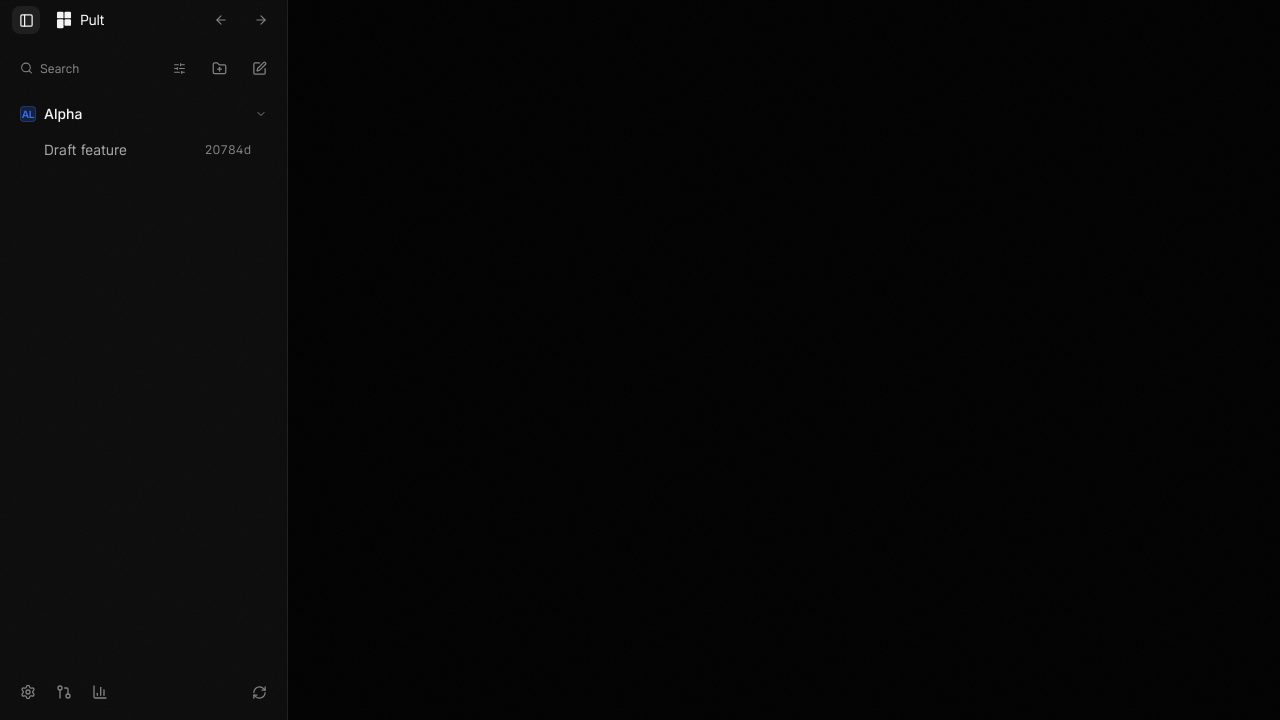
Scenario: Sidebar dirty worktree delete confirmation › shows workspace path and dirty entries, supports keep and force_remove, and cancels without deleting
This screenshot has width=1280, height=720.
Later steps or results of the test are not shown.
Step 1. Right-click the text "Draft feature" → coordinates (85, 150), box [44,140,127,160]
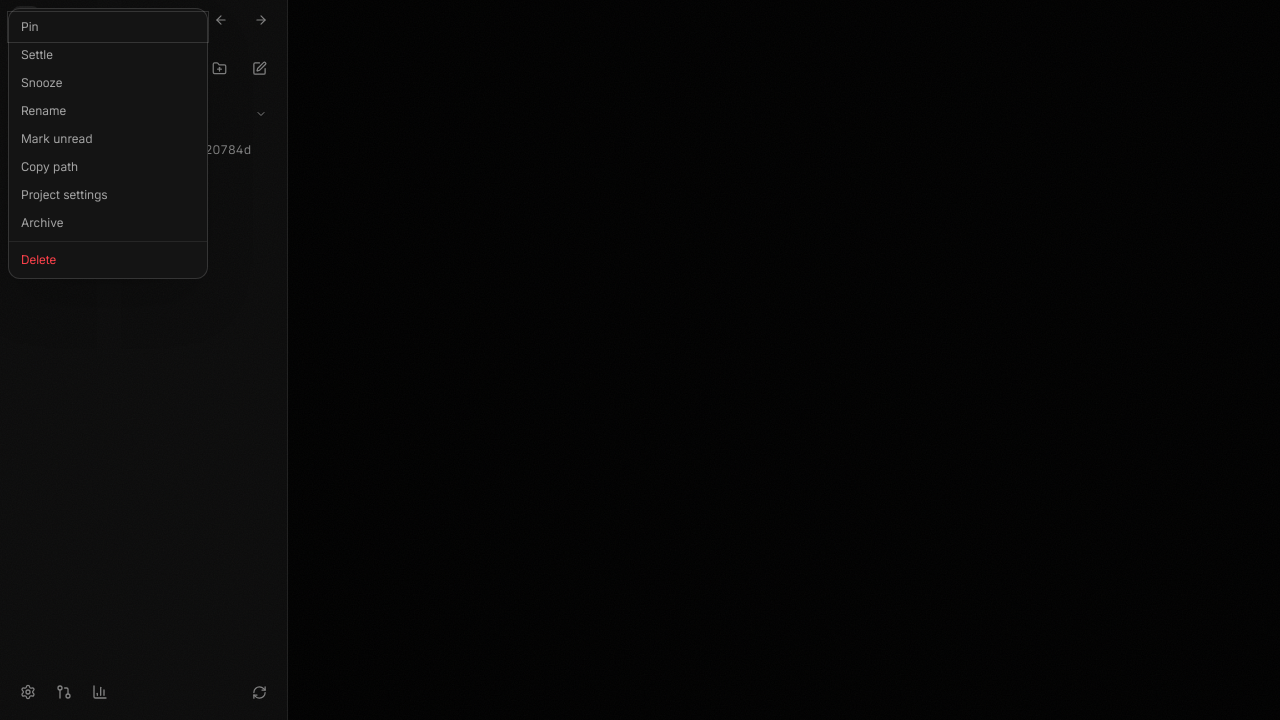
Step 2. Click the menu item "Delete" → coordinates (108, 260), box [9,246,207,274]
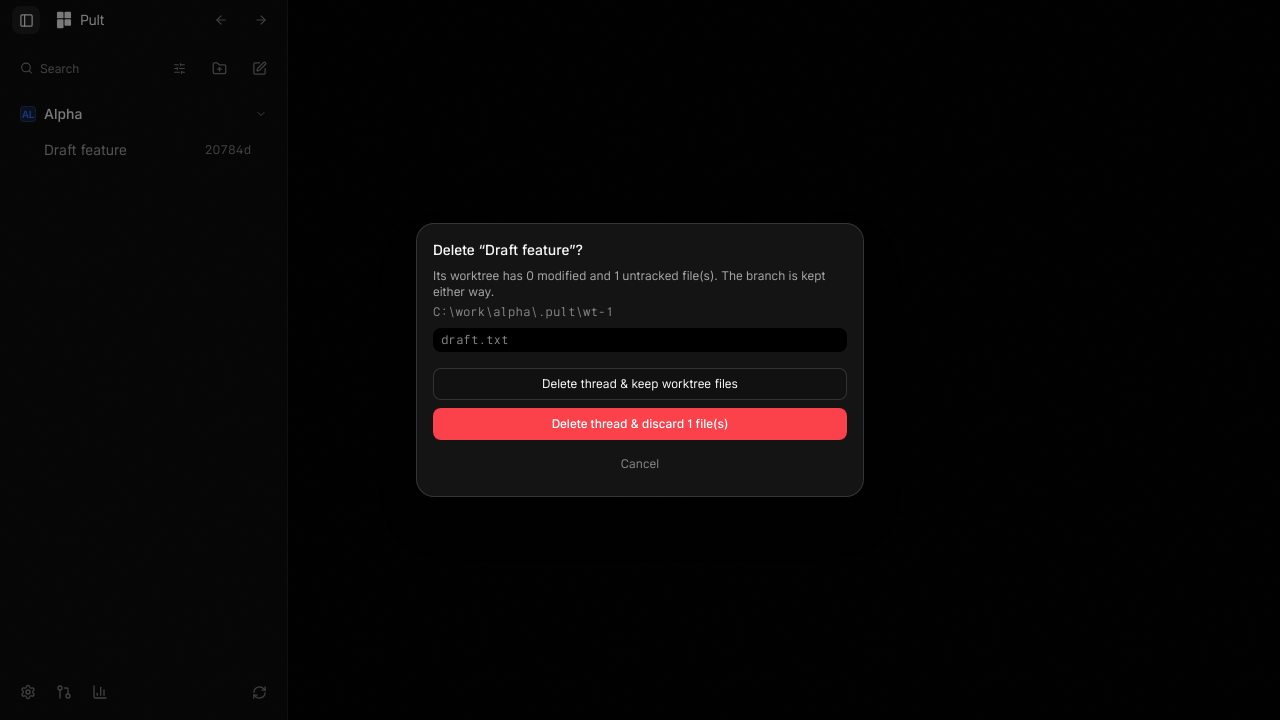
expect the text "C:\\work\\alpha\\.pult\\wt-1" is shown: met, box [433,304,613,319]
expect the list item "draft.txt" is shown: met, box [441,332,508,347]
Step 3. Click the button "Cancel" → coordinates (640, 464), box [433,448,847,480]
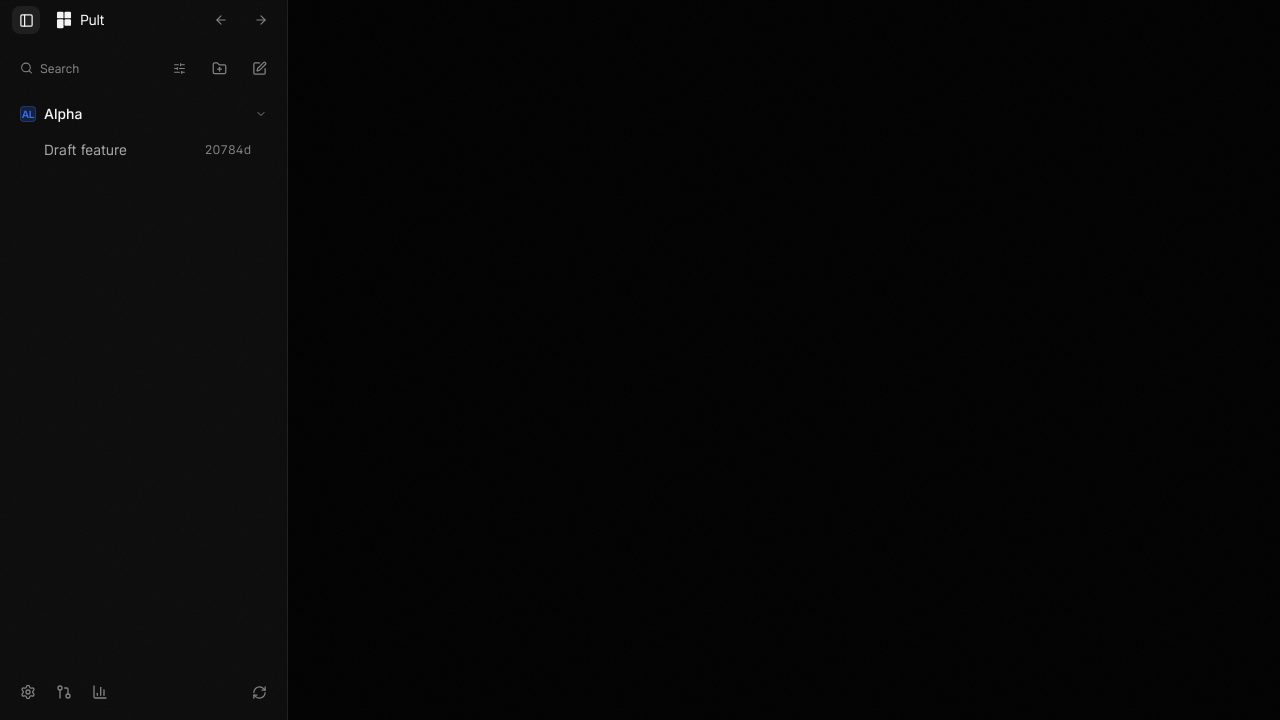
expect the button "Delete thread" is gone: met
